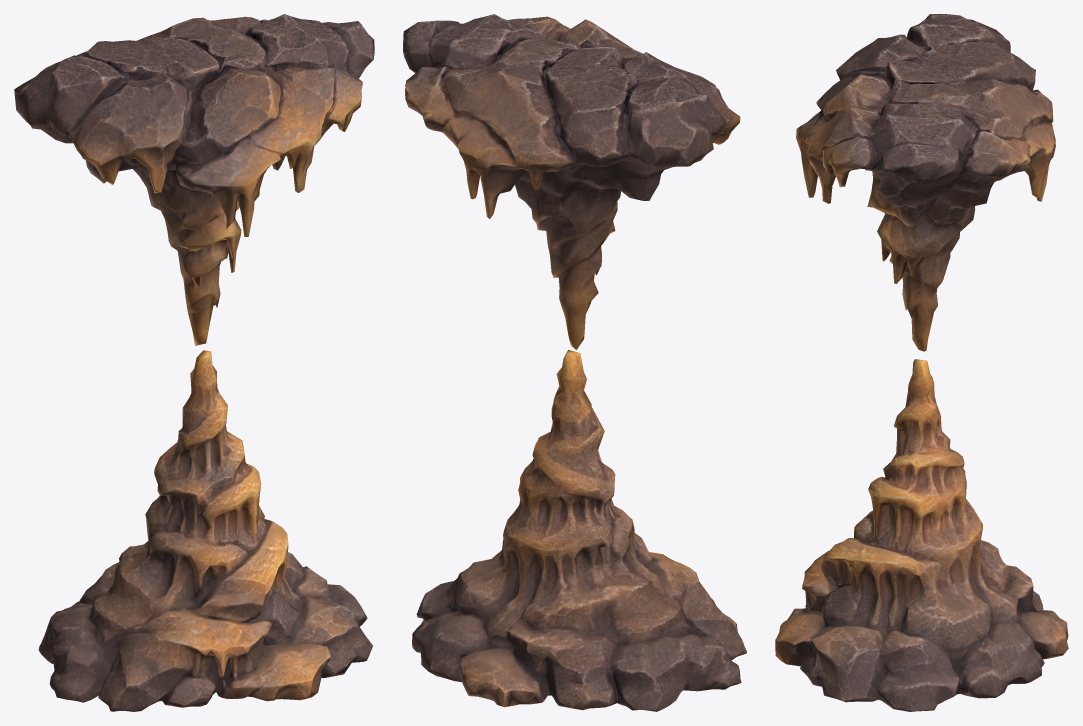
The model's file is floating-rock-2.glb.
3 views of the same model, side by side, from view 1: azimuth 30°, elevation 25°; view 2: azimuth 150°, elevation 25°; view 3: azimuth 270°, elevation 25° (orthographic). The views are drawn at different scales.
Visible parts, largest first — view 1: tripo_node_f70ba673-fe93-4bb3-914c-7abc35f98841; view 2: tripo_node_f70ba673-fe93-4bb3-914c-7abc35f98841; view 3: tripo_node_f70ba673-fe93-4bb3-914c-7abc35f98841.
Part boxes in pixels (box(x1,y1,x2,y2)): tripo_node_f70ba673-fe93-4bb3-914c-7abc35f98841: box(14, 14, 374, 711); tripo_node_f70ba673-fe93-4bb3-914c-7abc35f98841: box(403, 14, 746, 711); tripo_node_f70ba673-fe93-4bb3-914c-7abc35f98841: box(775, 14, 1068, 711).
Bounding box in the file's own units: 0.554 × 1 × 0.4614.
1 material, 1 textured.
